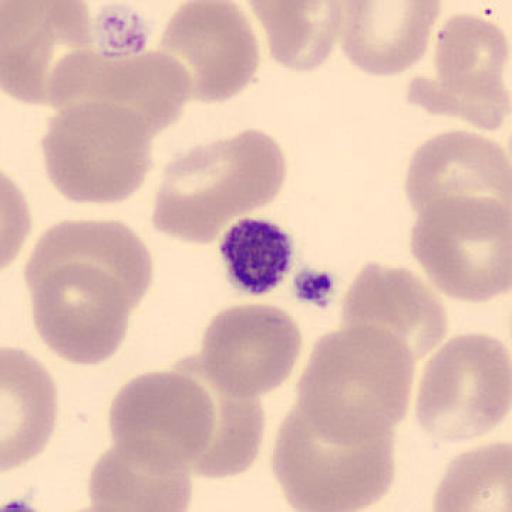Platelet: (216, 214, 297, 298), (90, 1, 153, 61), (289, 263, 340, 311)
RBC: (152, 129, 290, 246), (22, 218, 154, 339), (44, 45, 194, 143), (268, 402, 398, 512), (294, 323, 416, 439), (404, 127, 512, 243), (40, 100, 155, 206), (106, 369, 218, 474), (338, 258, 448, 364), (409, 192, 512, 303), (155, 0, 260, 107), (29, 262, 133, 368), (414, 332, 512, 444), (198, 301, 304, 401), (2, 0, 96, 106), (434, 10, 512, 130), (178, 378, 267, 481), (86, 434, 194, 512), (337, 1, 442, 77), (244, 0, 342, 75), (2, 345, 58, 472), (431, 438, 512, 512), (1, 170, 32, 271)
